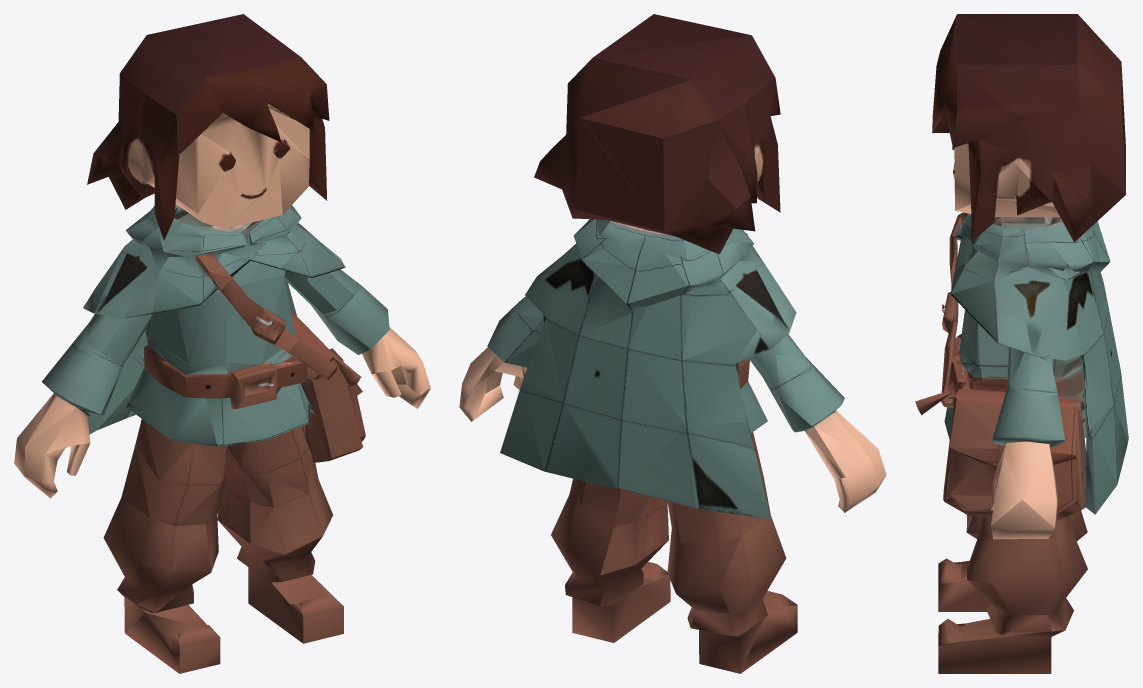
File: hero.glb
3 renders of one model, left to right at view 1: azimuth 30°, elevation 25°; view 2: azimuth 150°, elevation 25°; view 3: azimuth 270°, elevation 25°, orthographic. The views are drawn at different scales.
Size of the model in its own units: 1.36 by 1.9 by 0.6171.
Materials: 1 (1 with a texture image).
